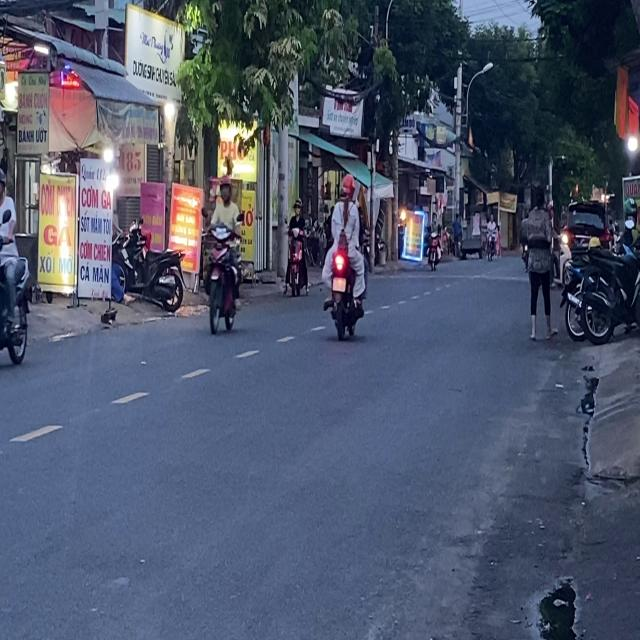helmet: (339, 172, 355, 200), (218, 175, 232, 202)
licenseplate: (321, 171, 367, 339), (202, 174, 244, 335), (0, 163, 32, 374)
nohelmet: (332, 278, 345, 292)
